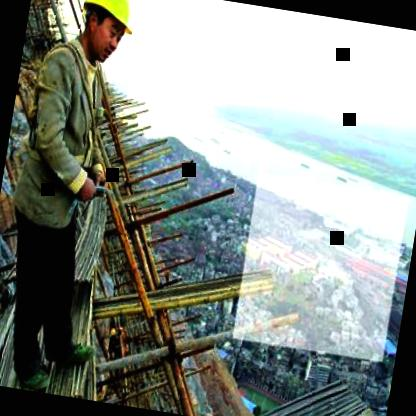helmet: (72, 0, 144, 62)
